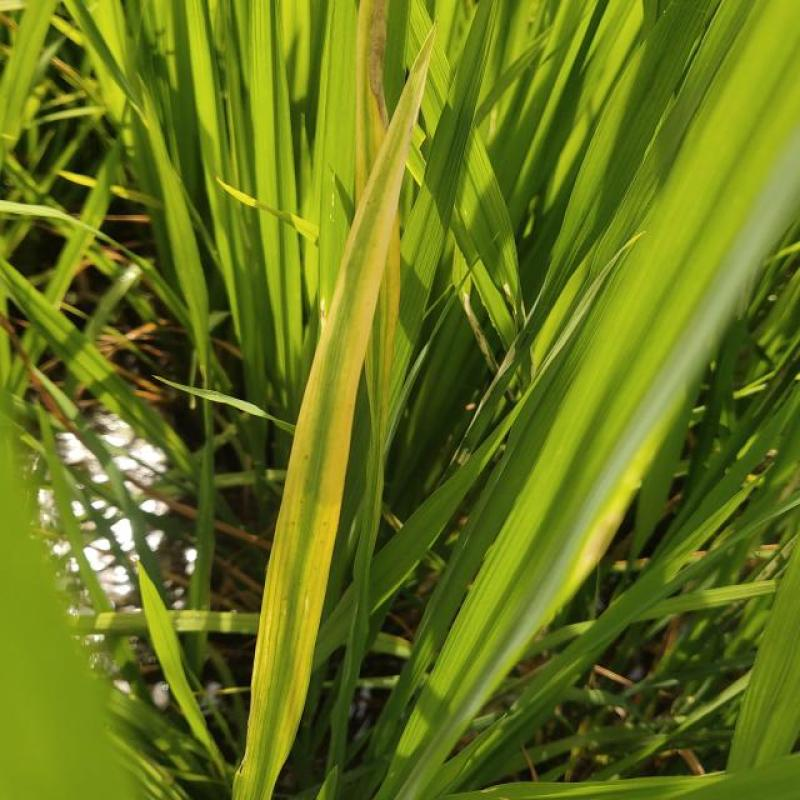Rice Tungro: (168, 38, 472, 704)
